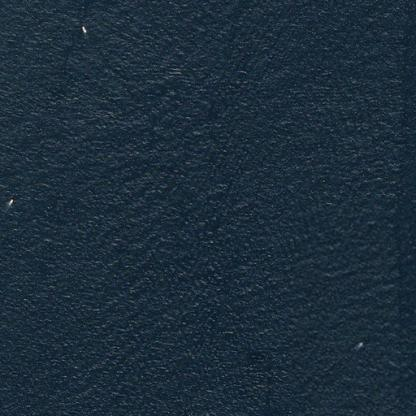ship: (356, 330, 363, 338), (0, 198, 1, 206), (0, 29, 4, 29)
